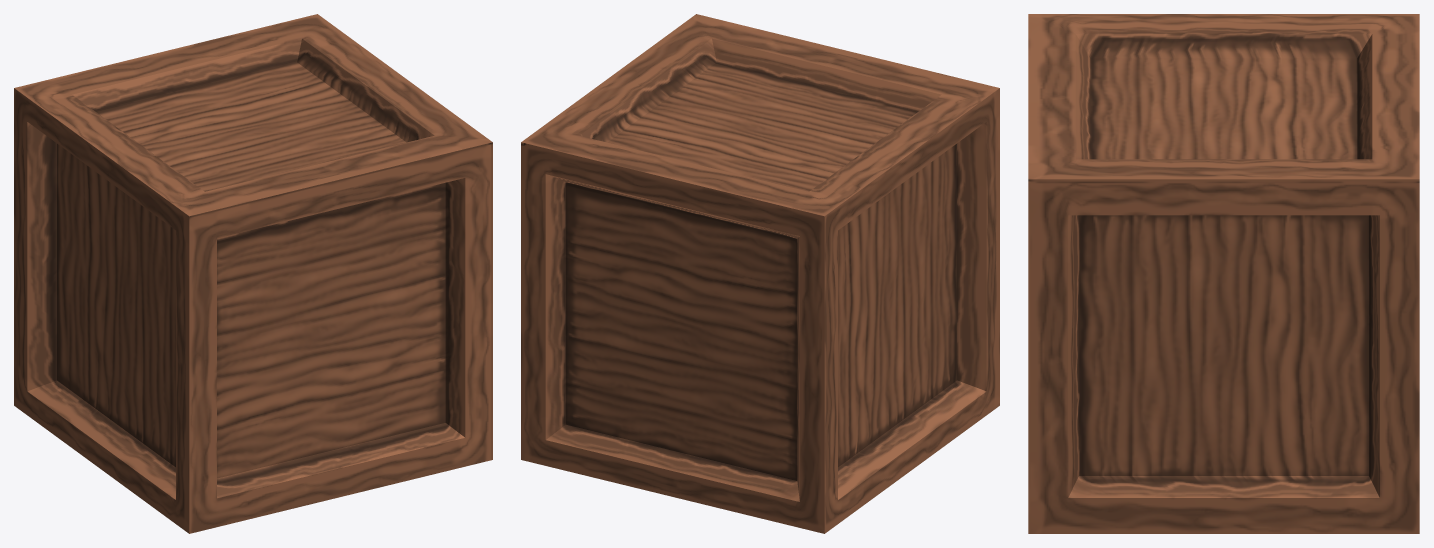
File: Caixa.fbx
The picture shows the model from 3 angles, left to right: view 1: azimuth 30°, elevation 25°; view 2: azimuth 150°, elevation 25°; view 3: azimuth 270°, elevation 25°; orthographic projection. The views are drawn at different scales.
Visible parts, largest first — view 1: Cube; view 2: Cube; view 3: Cube.
Part boxes in pixels (x1=…): Cube: x1=14, y1=14, x2=492, y2=533; Cube: x1=521, y1=14, x2=999, y2=533; Cube: x1=1028, y1=14, x2=1419, y2=533.
Size of the model in its own units: 2 by 2 by 2.
